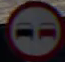No overtake: (6, 1, 60, 52)
